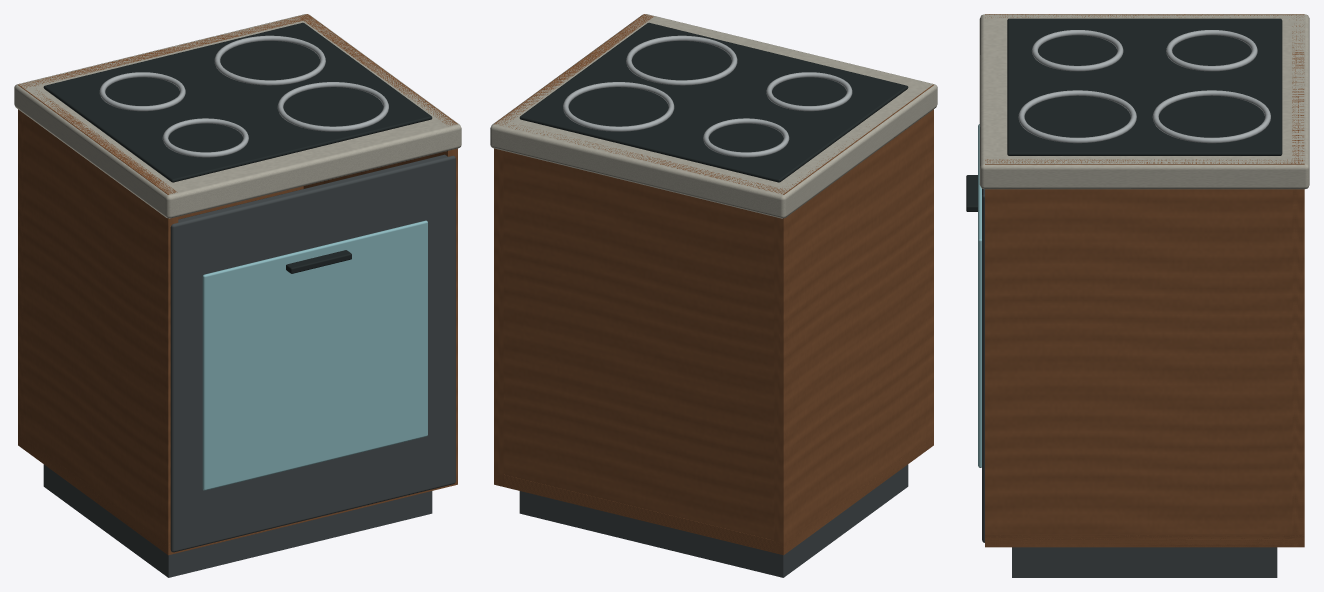
The model's file is stove_engawa-3390f943eba6.glb.
3 renders of one model, left to right at view 1: azimuth 30°, elevation 25°; view 2: azimuth 150°, elevation 25°; view 3: azimuth 270°, elevation 25°, orthographic. The views are drawn at different scales.
Visible parts, largest first — view 1: surface_walnut, surface_graphite, surface_glass, surface_black, surface_stone, surface_steel; view 2: surface_walnut, surface_black, surface_stone, surface_graphite, surface_steel; view 3: surface_walnut, surface_black, surface_stone, surface_graphite, surface_steel, surface_glass.
Boxes of the visible parts, x1,y1,x2,y2 form: surface_walnut: (18,14,457,555); surface_graphite: (43,154,455,577); surface_glass: (202,220,427,490); surface_black: (43,22,432,273); surface_stone: (14,14,461,218); surface_steel: (99,35,388,157); surface_walnut: (494,14,933,555); surface_black: (519,22,908,182); surface_stone: (490,14,937,218); surface_graphite: (519,464,908,577); surface_steel: (563,35,852,157); surface_walnut: (985,14,1304,547); surface_black: (966,18,1282,211); surface_stone: (979,14,1309,189); surface_graphite: (982,188,1277,577); surface_steel: (1018,30,1270,143); surface_glass: (978,124,981,467).
Size of the model in its own units: 0.704 by 0.9169 by 0.6663.
6 materials, 2 textured.
